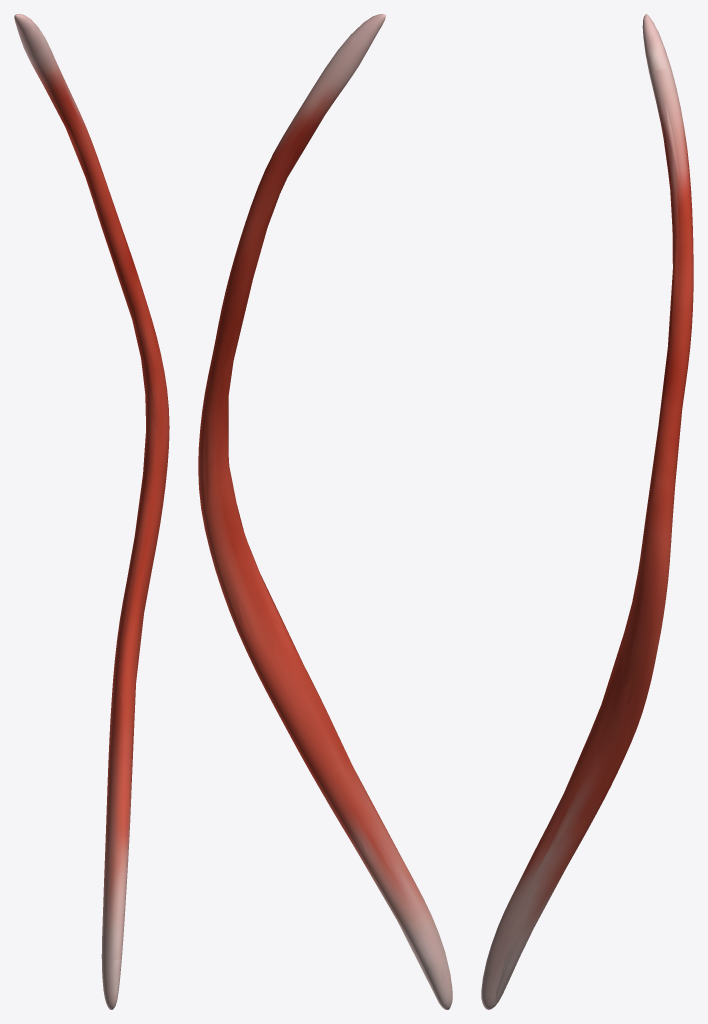
File: L Tensor Fasciae Antebrachii.fbx
The picture shows the model from 3 angles, left to right: view 1: azimuth 30°, elevation 25°; view 2: azimuth 150°, elevation 25°; view 3: azimuth 270°, elevation 25°; orthographic projection. The views are drawn at different scales.
Parts seen in each view (by area): view 1: L Tensor Fasciae Antebrachii low, L Tensor Fasciae Antebrachii; view 2: L Tensor Fasciae Antebrachii, L Tensor Fasciae Antebrachii low; view 3: L Tensor Fasciae Antebrachii, L Tensor Fasciae Antebrachii low.
Boxes of the visible parts, <box> form: L Tensor Fasciae Antebrachii low: <box>17,15,162,1009</box>; L Tensor Fasciae Antebrachii: <box>14,14,169,1009</box>; L Tensor Fasciae Antebrachii: <box>198,14,452,1009</box>; L Tensor Fasciae Antebrachii low: <box>199,30,445,994</box>; L Tensor Fasciae Antebrachii: <box>481,14,693,1009</box>; L Tensor Fasciae Antebrachii low: <box>484,19,683,1009</box>.
Size of the model in its own units: 10.47 by 59.56 by 11.63.
